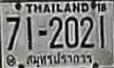0: (65, 16, 78, 47)
1: (26, 16, 32, 50), (100, 15, 104, 48)
2: (80, 16, 93, 48), (49, 16, 62, 48)
7: (6, 16, 19, 50)
SPK: (25, 52, 94, 66)
